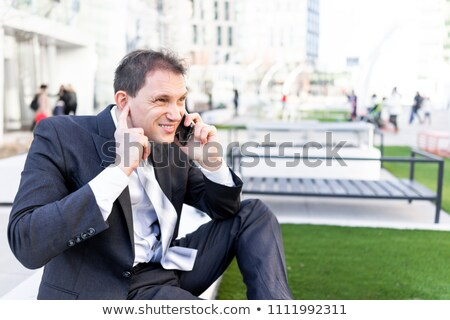phone: (171, 104, 203, 155)
talk: (150, 93, 218, 163)
